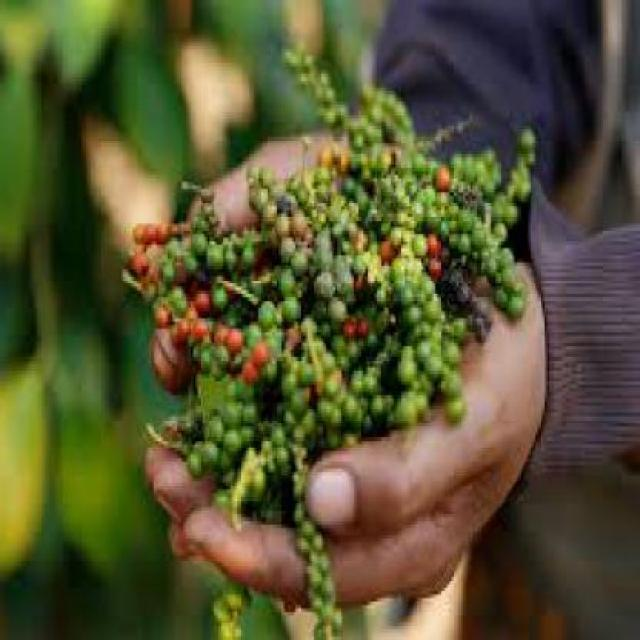RIPE: (126, 214, 197, 332)
UNRIPE: (449, 133, 545, 298)
